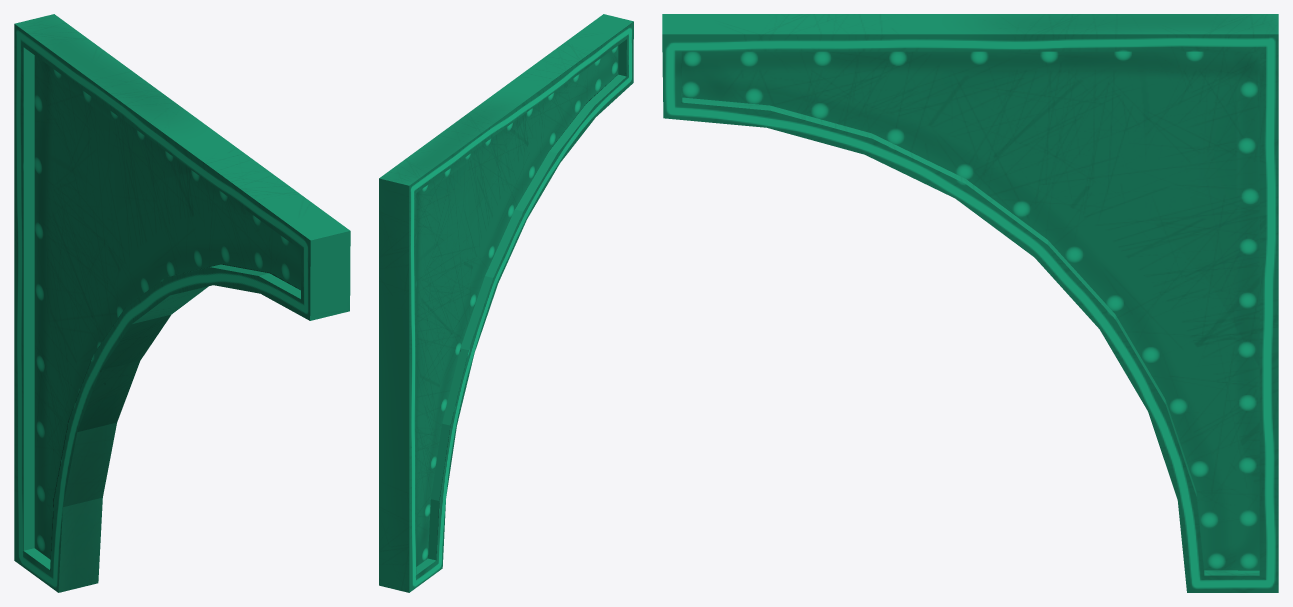
The model's file is Support-1.glb.
3 renders of one model, left to right at view 1: azimuth 30°, elevation 25°; view 2: azimuth 150°, elevation 25°; view 3: azimuth 270°, elevation 25°, orthographic. The views are drawn at different scales.
Parts seen in each view (by area): view 1: PlatformSupport1-col; view 2: PlatformSupport1-col; view 3: PlatformSupport1-col.
Boxes of the visible parts, <box> form: PlatformSupport1-col: <box>14,14,350,592</box>; PlatformSupport1-col: <box>379,14,633,592</box>; PlatformSupport1-col: <box>662,14,1278,592</box>.
Bounding box in the file's own units: 0.1556 × 2 × 2.
1 material, 1 textured.
